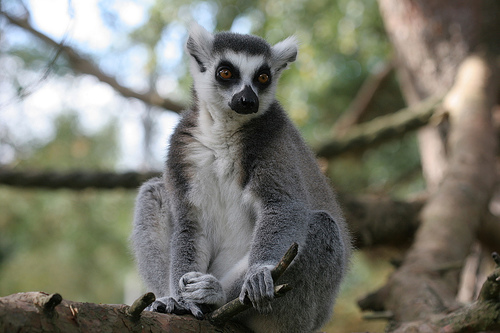cat: (129, 19, 359, 330)
